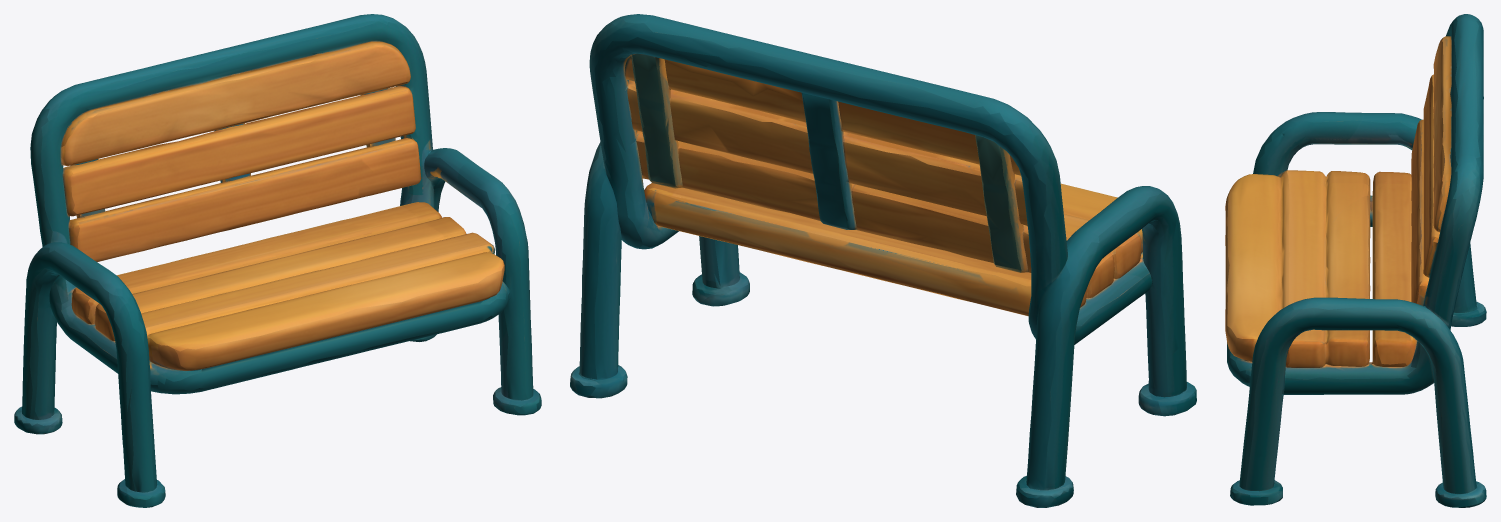
Rendered from SchoolBench.glb.
3 renders of one model, left to right at view 1: azimuth 30°, elevation 25°; view 2: azimuth 150°, elevation 25°; view 3: azimuth 270°, elevation 25°, orthographic. The views are drawn at different scales.
Parts seen in each view (by area): view 1: geometry_0; view 2: geometry_0; view 3: geometry_0.
Boxes of the visible parts, <box> form: geometry_0: <box>14,14,541,507</box>; geometry_0: <box>570,14,1196,507</box>; geometry_0: <box>1225,14,1486,507</box>.
Bounding box in the file's own units: 1.5 × 1.12 × 0.8255.
Materials: 1 (1 with a texture image).
